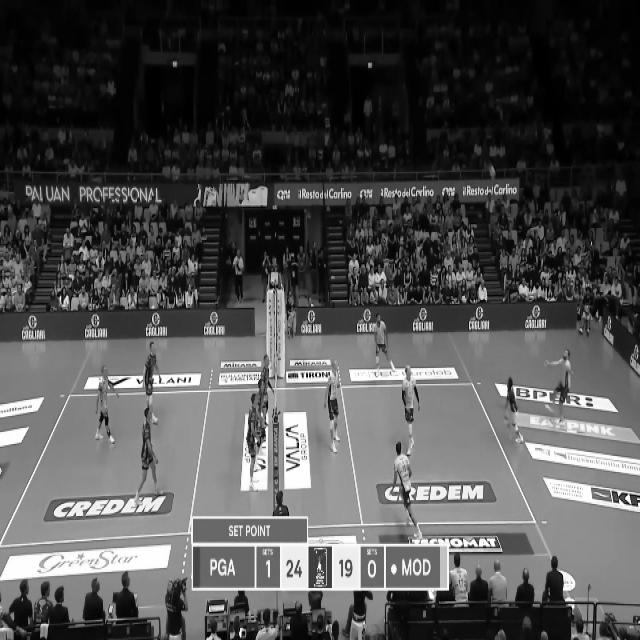volleyball court: (1, 380, 536, 544)
